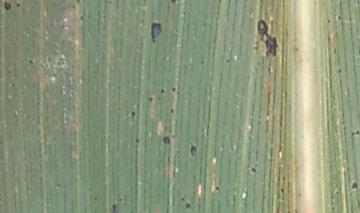tarspot: (256, 19, 280, 58), (149, 22, 163, 44), (188, 143, 197, 158), (2, 1, 12, 11), (162, 134, 171, 145), (350, 181, 360, 190), (249, 165, 257, 175), (350, 129, 360, 137), (111, 203, 118, 213), (26, 58, 34, 66), (170, 85, 177, 94), (184, 201, 191, 210), (168, 107, 175, 116), (252, 44, 260, 51), (129, 110, 136, 118), (14, 1, 21, 8), (54, 182, 61, 189), (325, 17, 331, 25), (214, 185, 220, 193), (10, 81, 16, 89), (162, 124, 168, 132), (79, 14, 84, 23), (224, 57, 230, 64), (335, 14, 341, 21), (179, 195, 185, 202), (146, 95, 152, 102), (159, 87, 165, 94), (279, 186, 285, 193), (294, 46, 300, 53), (169, 1, 177, 6), (134, 137, 140, 143), (117, 196, 122, 203), (337, 67, 342, 74), (74, 1, 81, 4)
